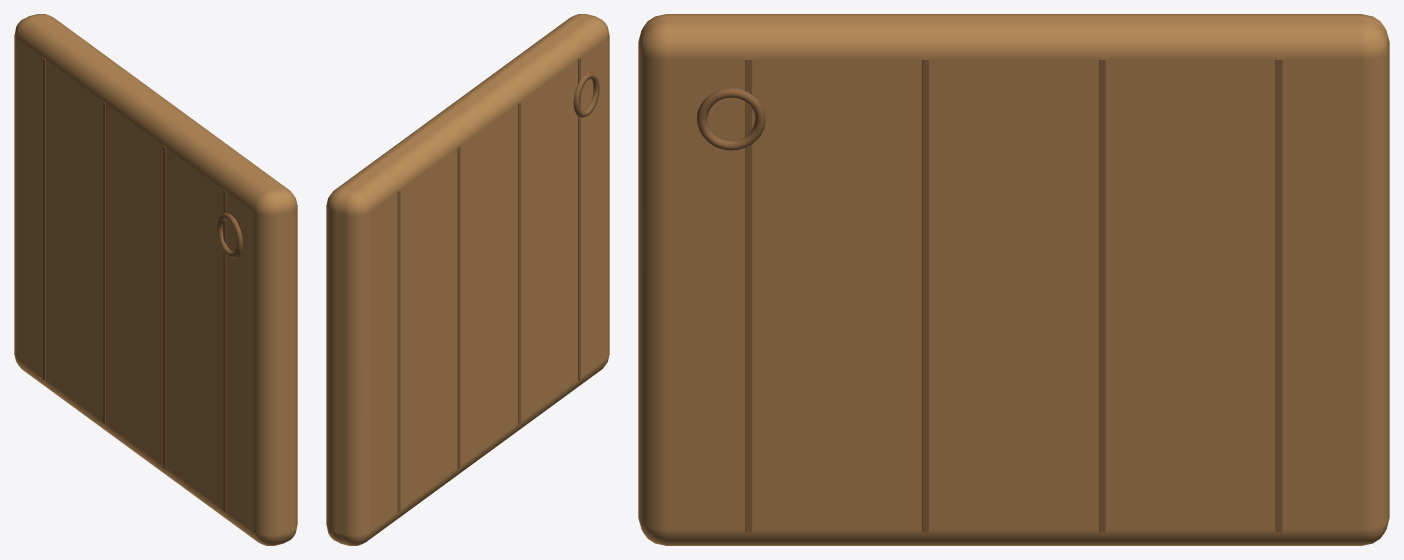
File: board-light.glb
3 renders of one model, left to right at view 1: azimuth 30°, elevation 25°; view 2: azimuth 150°, elevation 25°; view 3: azimuth 270°, elevation 25°, orthographic. The views are drawn at different scales.
Visible parts, largest first — view 1: wood, edge; view 2: wood, edge; view 3: wood, edge.
Part boxes in pixels (bbox=[...]): wood: bbox=[14, 14, 297, 545]; edge: bbox=[43, 57, 242, 512]; wood: bbox=[326, 14, 609, 545]; edge: bbox=[397, 57, 599, 512]; wood: bbox=[638, 14, 1389, 545]; edge: bbox=[696, 59, 1282, 531].
Bounding box in the file's own units: 0.0944 × 0.65 × 0.85.
